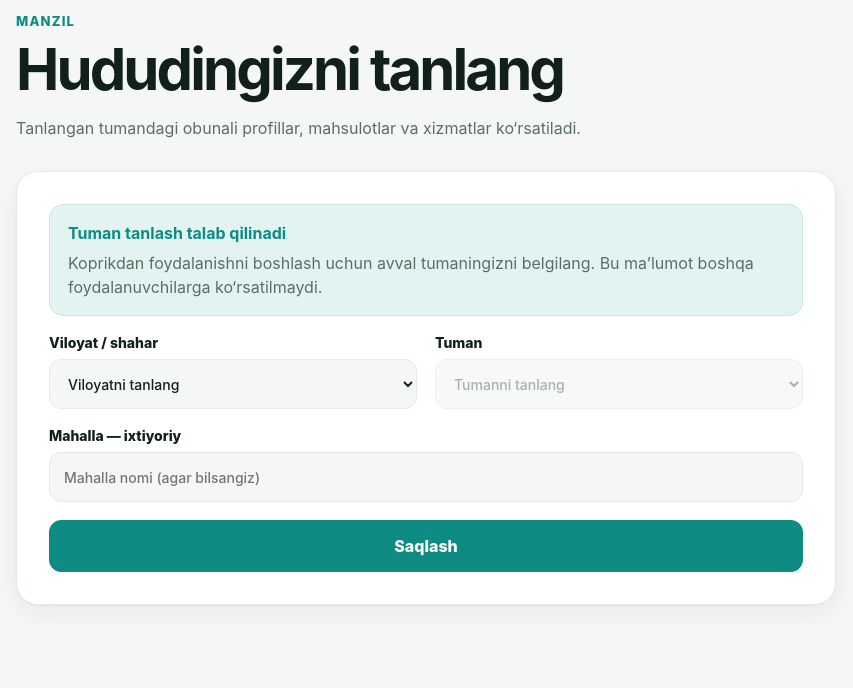
Test: LocationScreen › requires a district before saving
Step 1. Click the button "Saqlash" → (426, 546), box [49,520,803,572]
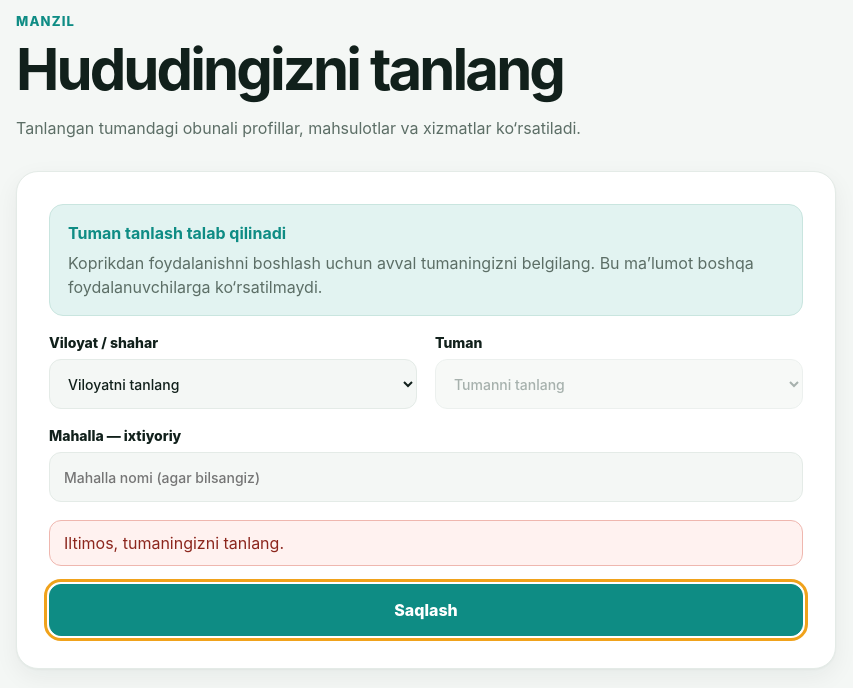
Expected: the message reads "Iltimos, tumaningizni tanlang.", [64,534,284,554]
